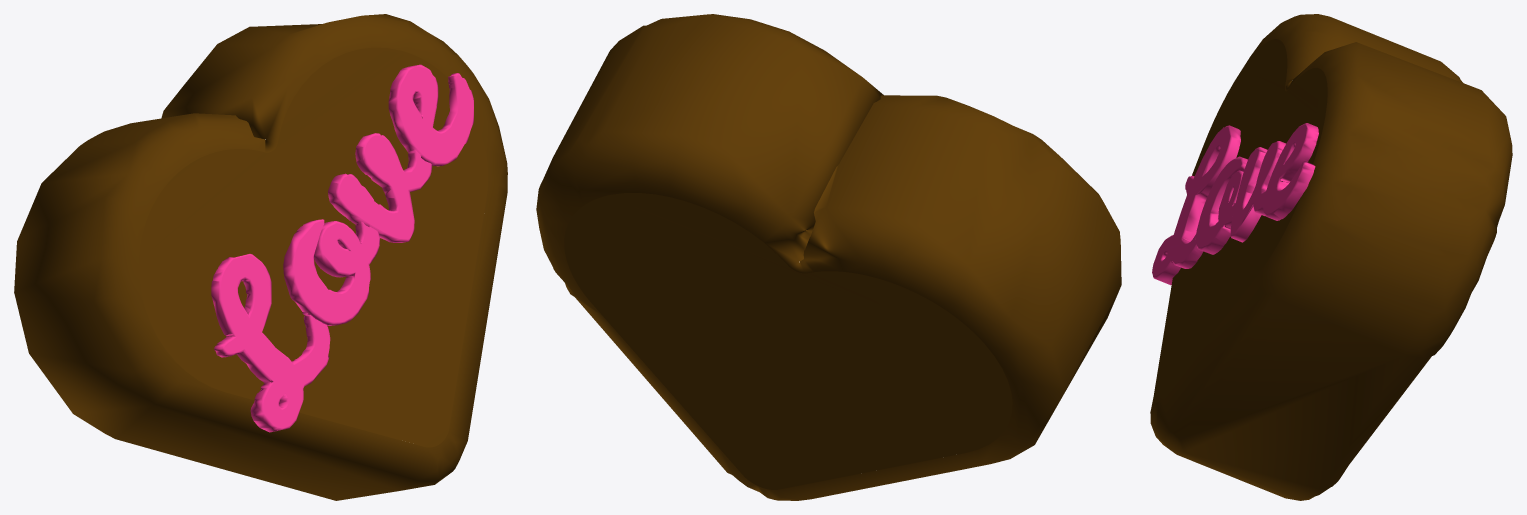
The model's file is Chocolate.glb.
3 views of the same model, side by side, from view 1: azimuth 30°, elevation 25°; view 2: azimuth 150°, elevation 25°; view 3: azimuth 270°, elevation 25° (orthographic). The views are drawn at different scales.
Parts seen in each view (by area): view 1: 3d66-Editable_Poly-22694737-001, 3d66-Editable_Poly-22694737-002; view 2: 3d66-Editable_Poly-22694737-001; view 3: 3d66-Editable_Poly-22694737-001, 3d66-Editable_Poly-22694737-002.
Boxes of the visible parts, x1,y1,x2,y2 form: 3d66-Editable_Poly-22694737-001: (14,14,507,500); 3d66-Editable_Poly-22694737-002: (211,64,473,432); 3d66-Editable_Poly-22694737-001: (536,14,1121,500); 3d66-Editable_Poly-22694737-001: (1150,14,1512,500); 3d66-Editable_Poly-22694737-002: (1152,123,1318,285).
Bounding box in the file's own units: 0.7138 × 0.6864 × 0.5099.
